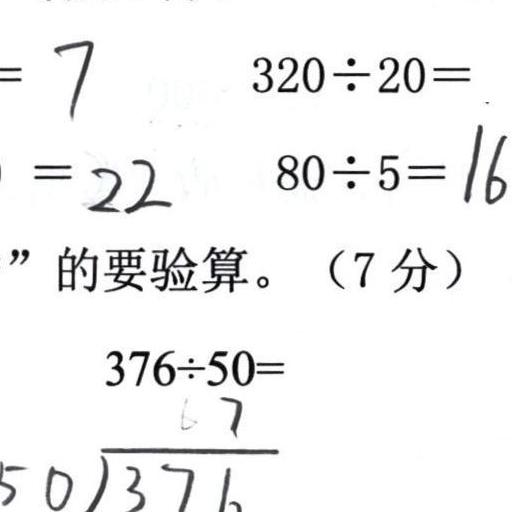ans: (81, 151, 171, 215), (457, 119, 509, 205), (48, 32, 96, 116)
